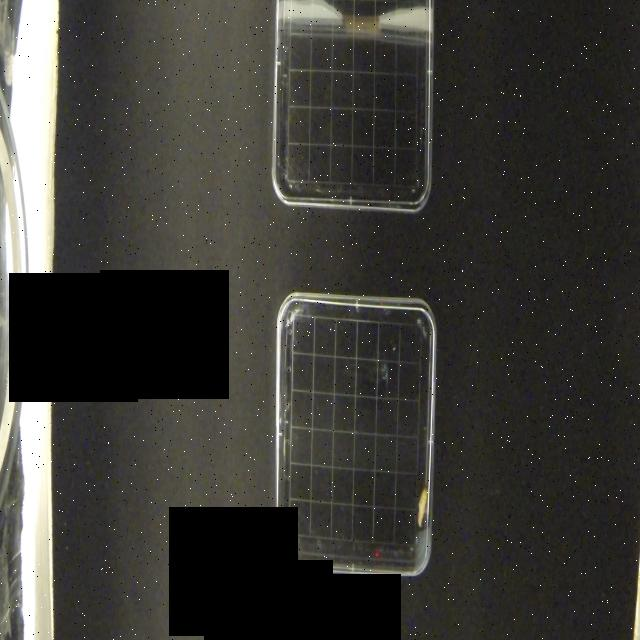larva: (415, 481, 431, 531)
